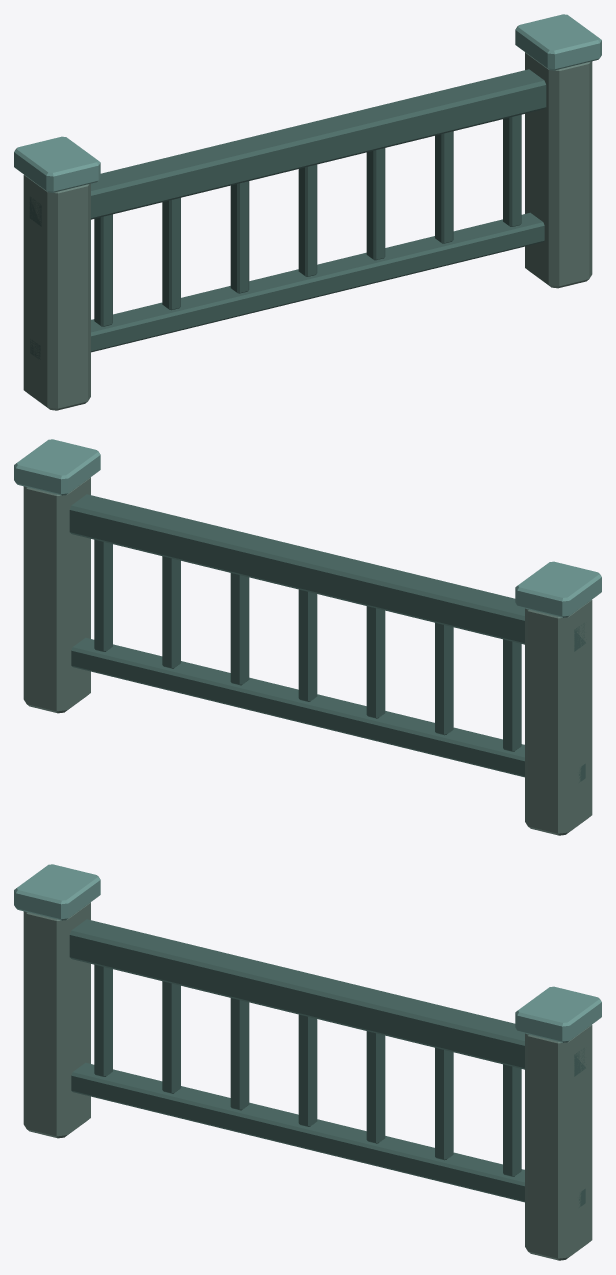
File: railing-straight.glb
The picture shows the model from 3 angles, top to bottom: view 1: azimuth 30°, elevation 25°; view 2: azimuth 150°, elevation 25°; view 3: azimuth 330°, elevation 25°; orthographic projection.
Parts seen in each view (by area): view 1: railing-straight__body; view 2: railing-straight__body; view 3: railing-straight__body.
Part boxes in pixels (x1=…): railing-straight__body: x1=14, y1=14, x2=601, y2=410; railing-straight__body: x1=14, y1=439, x2=601, y2=835; railing-straight__body: x1=14, y1=864, x2=601, y2=1260.
Bounding box in the file's own units: 2.04 × 0.85 × 0.24.
